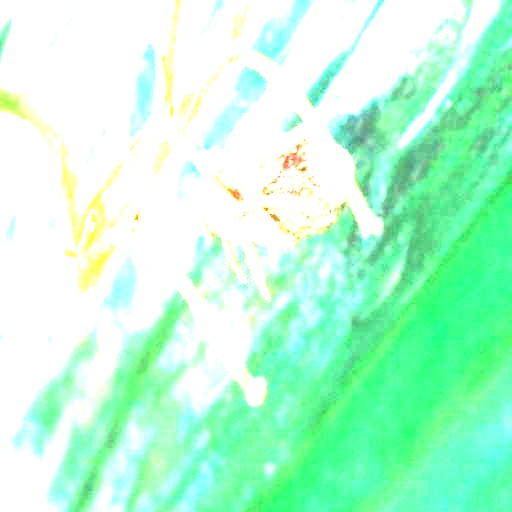Gray Mold: (197, 105, 356, 300)
